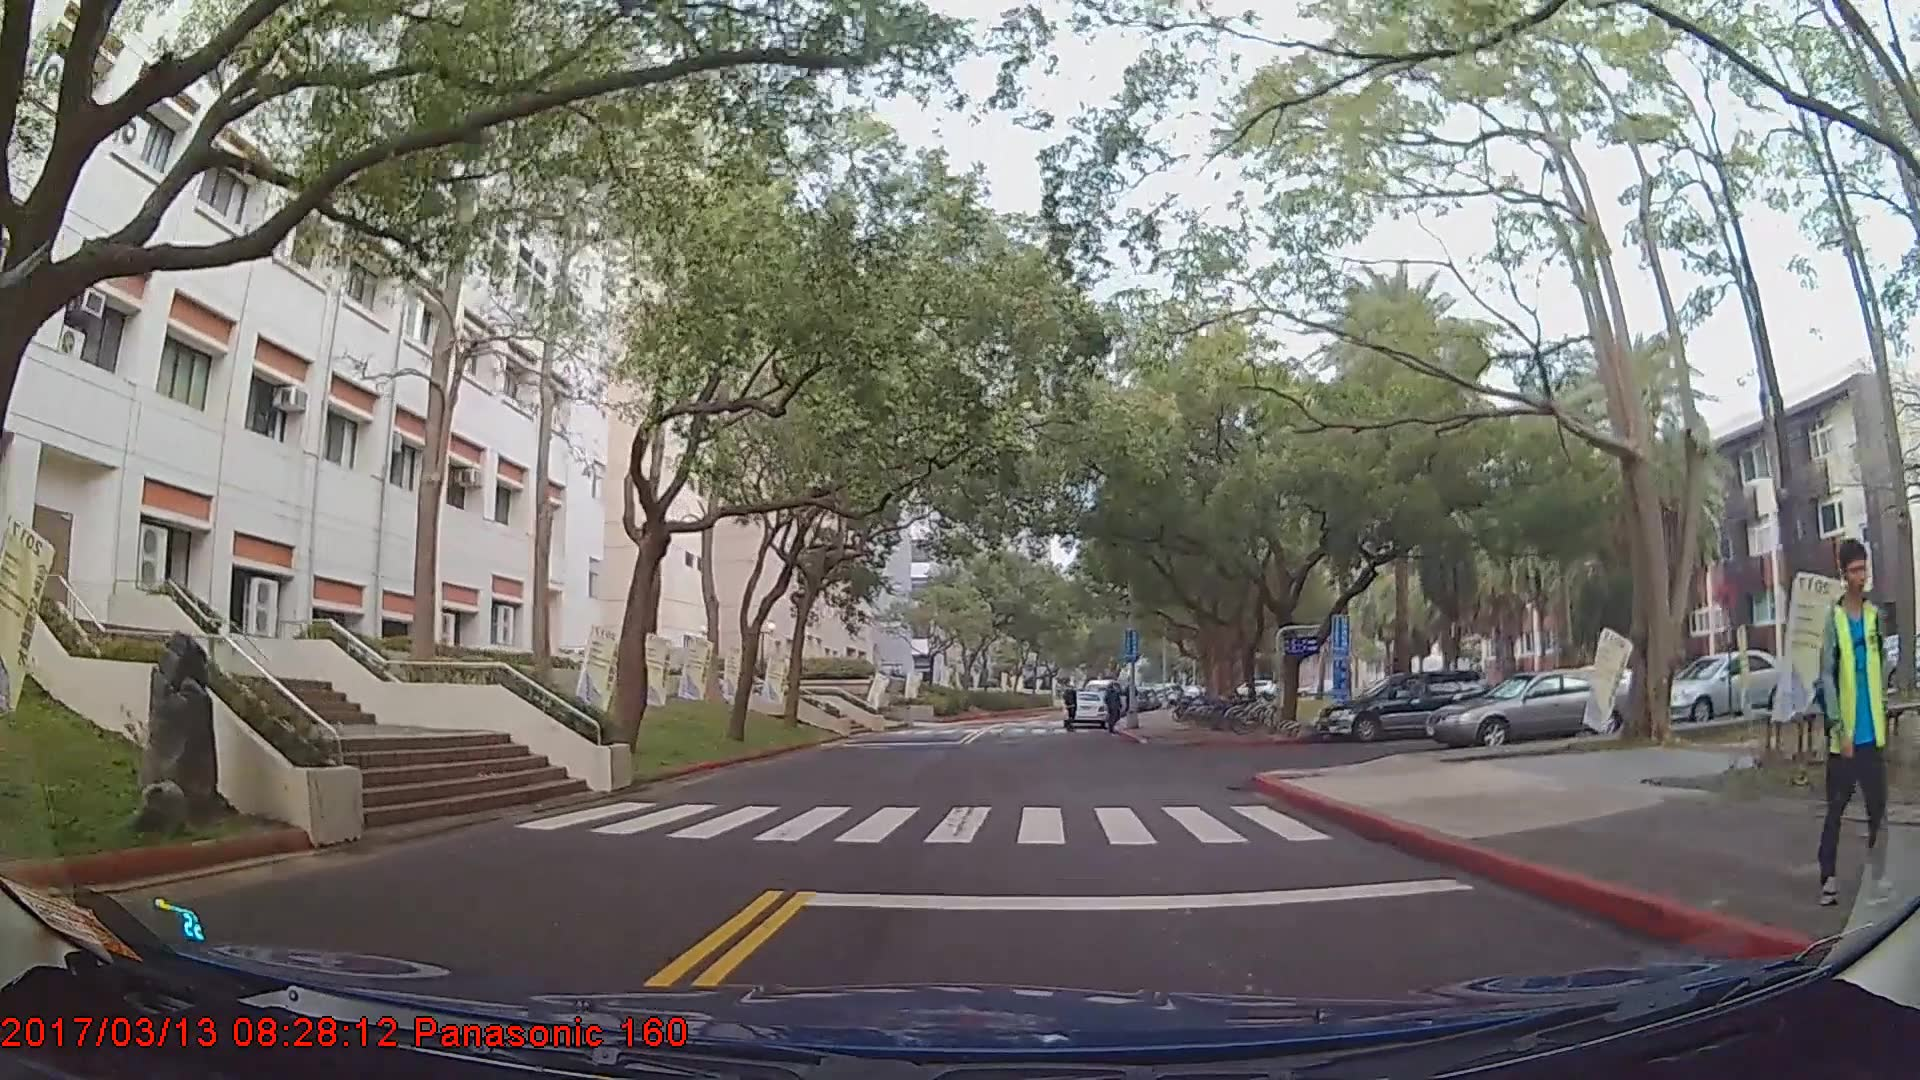pedestrian: (1813, 537, 1895, 916), (1062, 684, 1082, 736), (1105, 684, 1126, 734)
vehicle: (1425, 669, 1638, 749), (1315, 667, 1489, 740), (1654, 651, 1800, 724), (1061, 690, 1108, 729)
